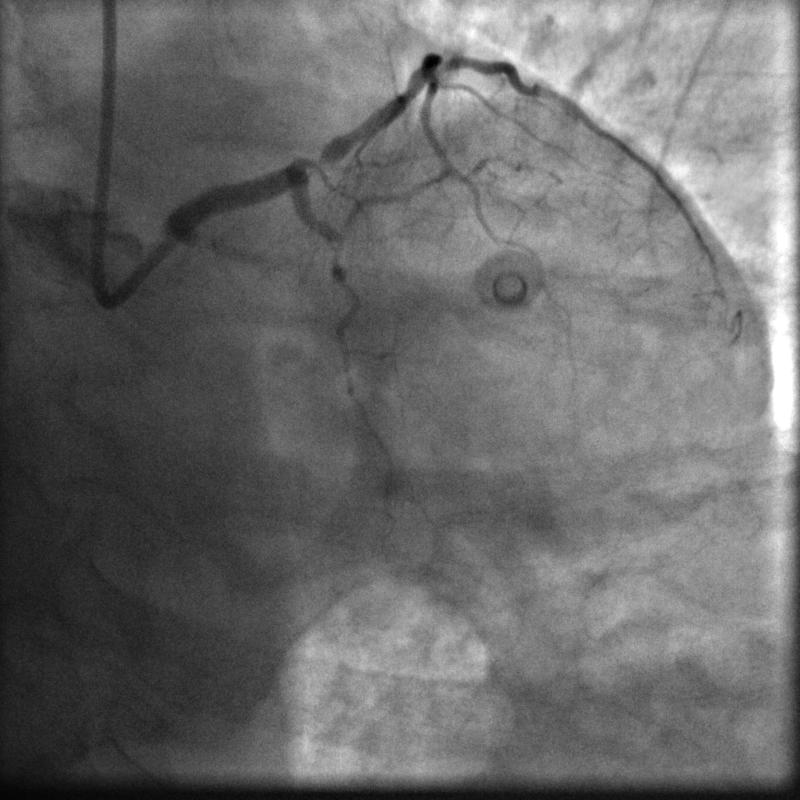Stenosis: (297, 144, 338, 172)
